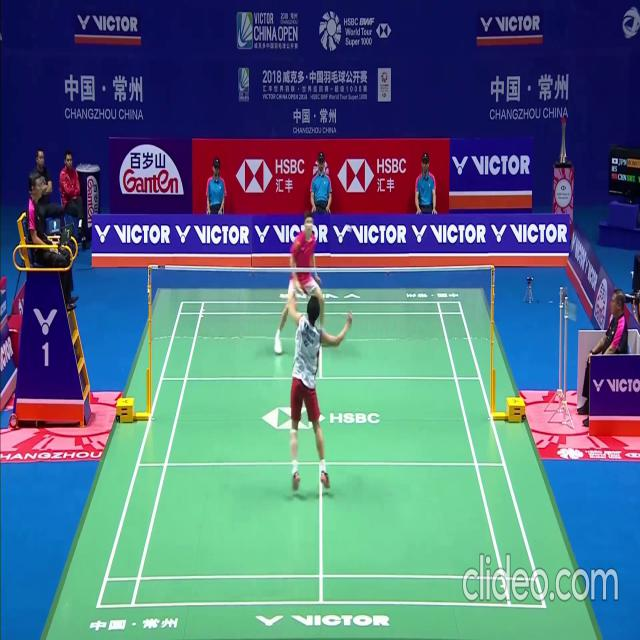Shuttlecock: (348, 224, 352, 231)
